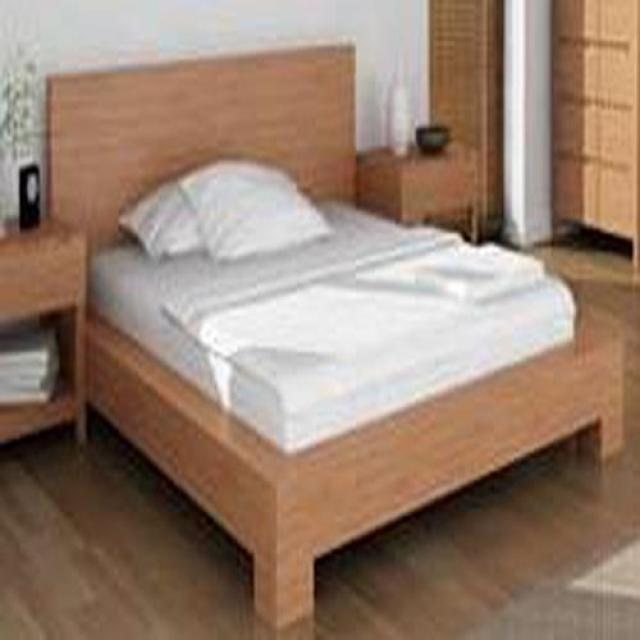bed: (13, 44, 609, 640)
